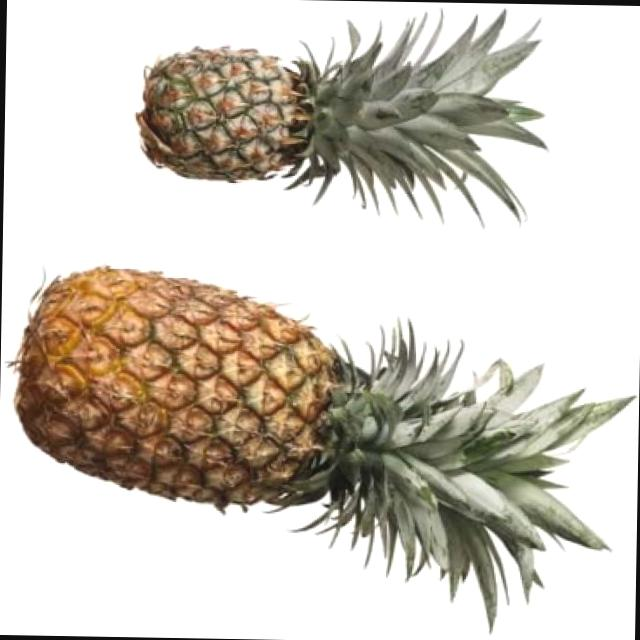pineapple: (6, 245, 436, 576), (124, 21, 370, 205)
